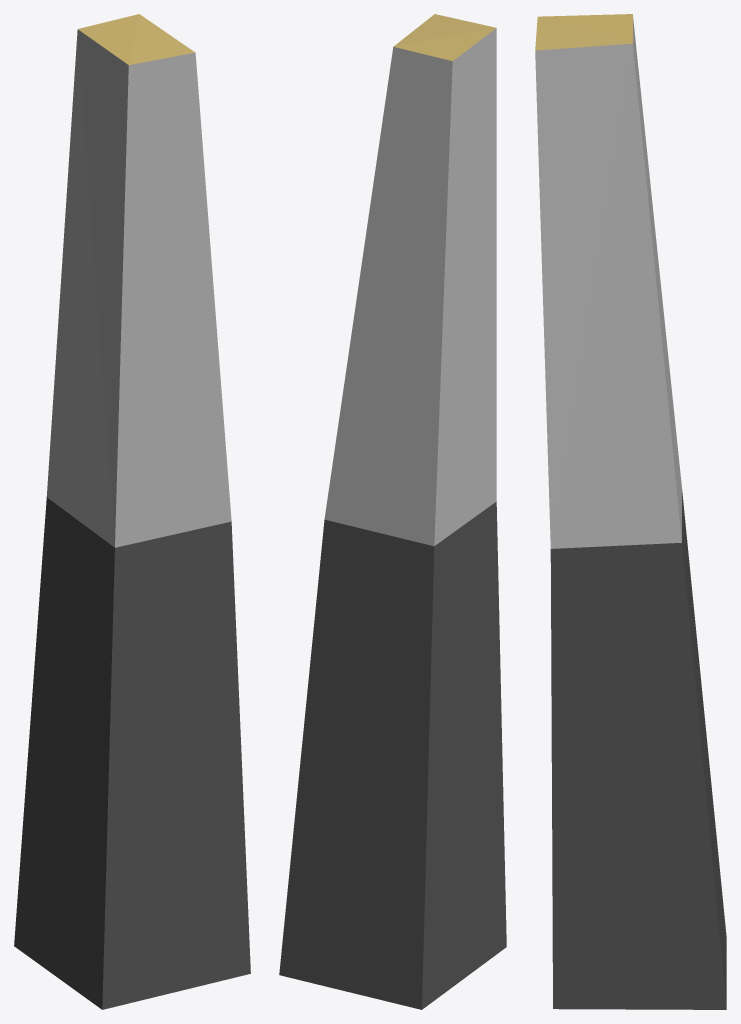
Rendered from BirchLog1.dae.
3 renders of one model, left to right at view 1: azimuth 30°, elevation 25°; view 2: azimuth 150°, elevation 25°; view 3: azimuth 270°, elevation 25°, orthographic. The views are drawn at different scales.
Parts seen in each view (by area): view 1: Cube; view 2: Cube; view 3: Cube.
Boxes of the visible parts, box(x1,y1,x2,y2) form: Cube: box(14, 14, 250, 1009); Cube: box(279, 14, 506, 1009); Cube: box(535, 14, 726, 1009).
Size of the model in its own units: 0.4816 by 0.5473 by 2.94.
